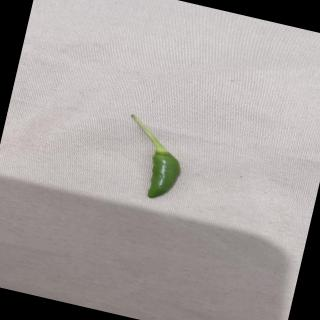Cabai Hijau: (107, 111, 197, 206)
